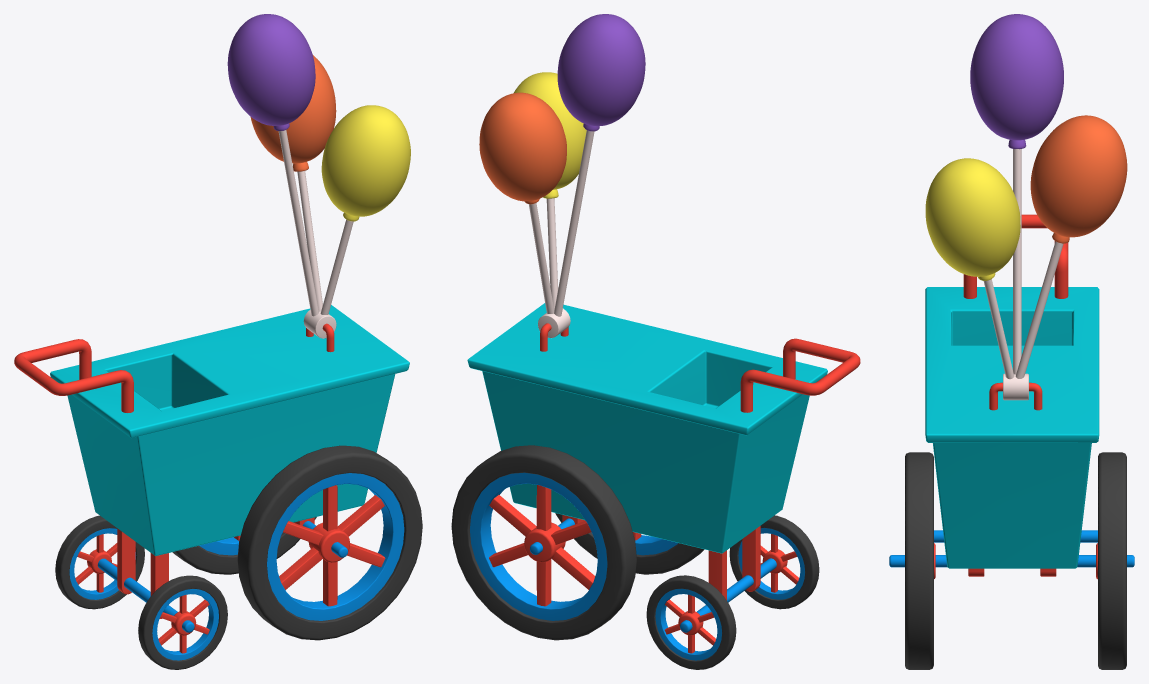
File: Public_14_Circus_cart_with_balls_1.glb
The picture shows the model from 3 angles, left to right: view 1: azimuth 30°, elevation 25°; view 2: azimuth 150°, elevation 25°; view 3: azimuth 270°, elevation 25°; orthographic projection. The views are drawn at different scales.
Visible parts, largest first — view 1: Public_14_Circus_cart_with_balls_1; view 2: Public_14_Circus_cart_with_balls_1; view 3: Public_14_Circus_cart_with_balls_1.
Boxes of the visible parts, left/top/right/bottom form: Public_14_Circus_cart_with_balls_1: left=14, top=14, right=422, bottom=669; Public_14_Circus_cart_with_balls_1: left=451, top=14, right=860, bottom=669; Public_14_Circus_cart_with_balls_1: left=889, top=14, right=1134, bottom=669.
Bounding box in the file's own units: 1.95 × 3.11 × 1.09.
Materials: 1 (1 with a texture image).
